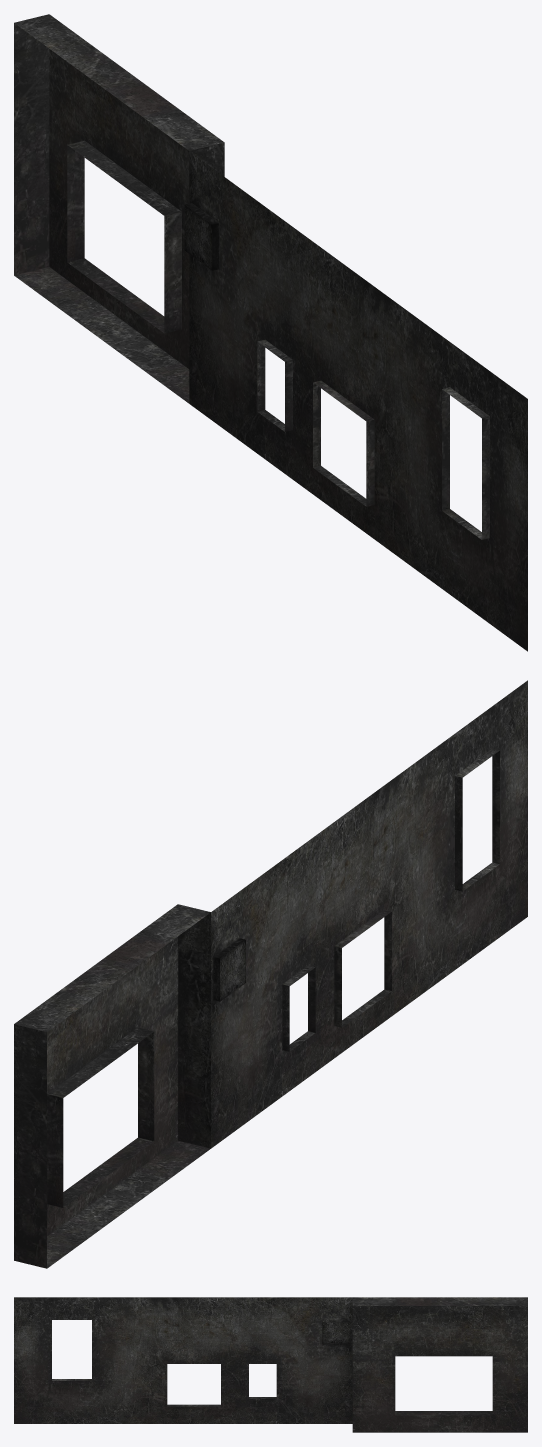
File: Wall_02.FBX
3 renders of one model, top to bottom at view 1: azimuth 30°, elevation 25°; view 2: azimuth 150°, elevation 25°; view 3: azimuth 270°, elevation 25°, orthographic. The views are drawn at different scales.
Visible parts, largest first — view 1: Wall_02; view 2: Wall_02; view 3: Wall_02.
Part boxes in pixels (x1,y1,x2,y2): Wall_02: (14,14,527,651); Wall_02: (14,680,527,1268); Wall_02: (14,1297,527,1432).
Size of the model in its own units: 91.95 by 511 by 1884.
